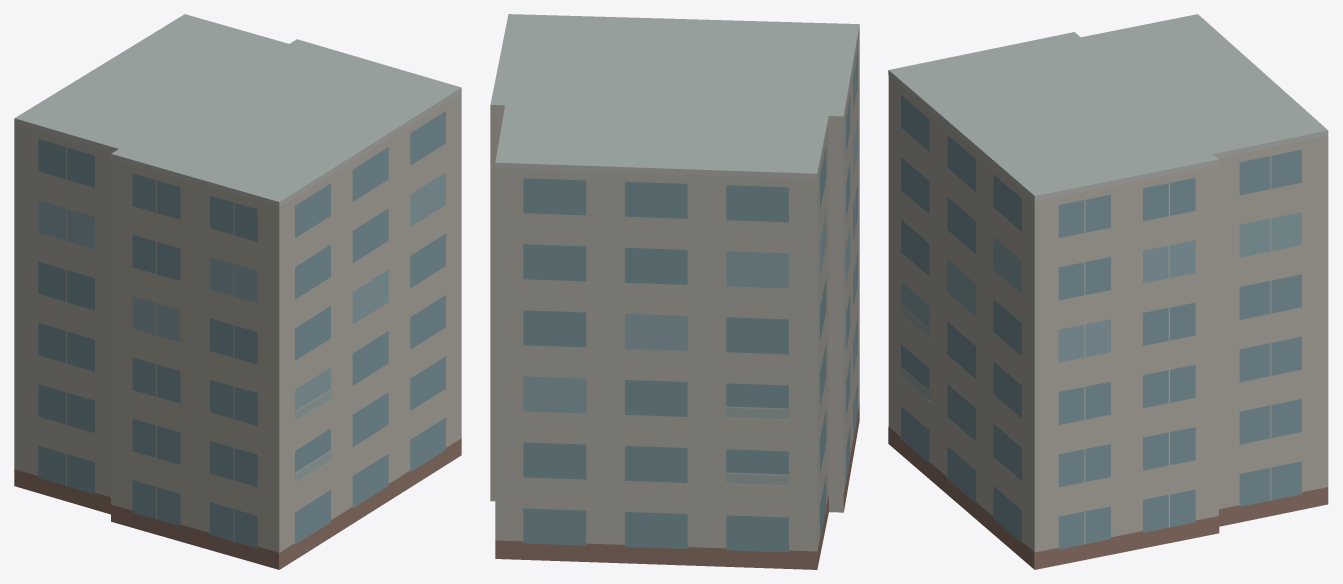
File: survey-upis-32967882.glb
3 renders of one model, left to right at view 1: azimuth 30°, elevation 25°; view 2: azimuth 150°, elevation 25°; view 3: azimuth 270°, elevation 25°, orthographic. The views are drawn at different scales.
Parts seen in each view (by area): view 1: survey-upis-32967882.tmp; view 2: survey-upis-32967882.tmp; view 3: survey-upis-32967882.tmp.
Boxes of the visible parts, x1,y1,x2,y2 form: survey-upis-32967882.tmp: (14, 14, 461, 569); survey-upis-32967882.tmp: (490, 14, 859, 569); survey-upis-32967882.tmp: (888, 14, 1328, 569).
Bounding box in the file's own units: 18.02 × 17.25 × 18.4.
